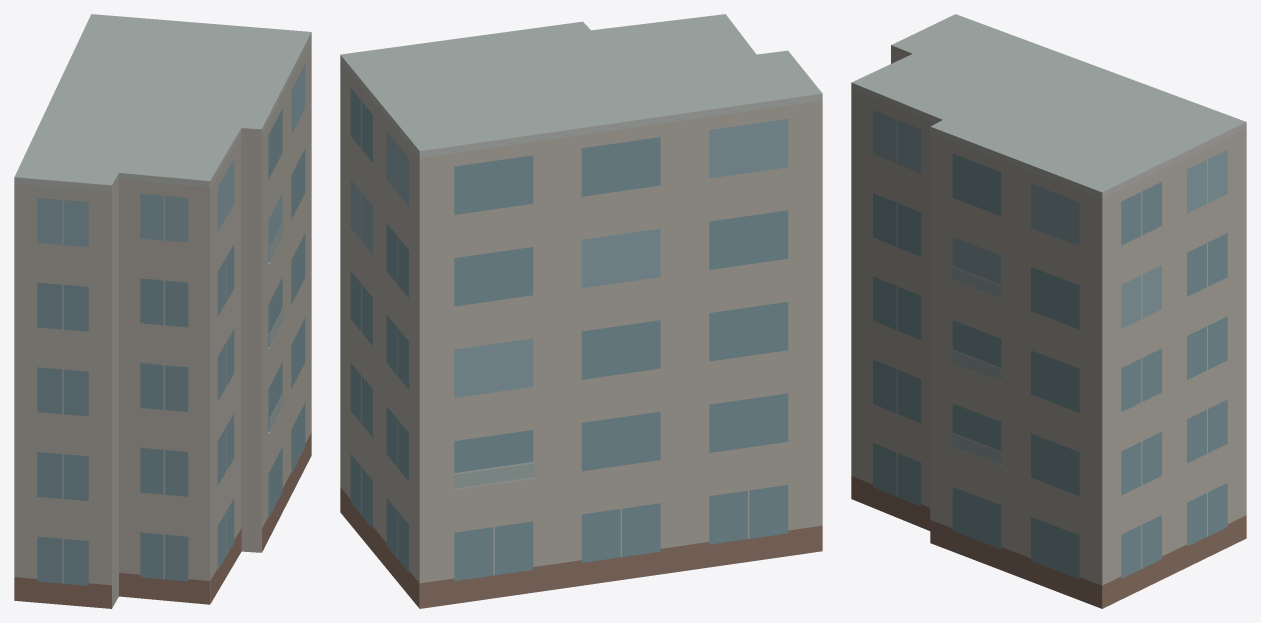
The model's file is survey-upis-32769931.glb.
3 views of the same model, side by side, from view 1: azimuth 30°, elevation 25°; view 2: azimuth 150°, elevation 25°; view 3: azimuth 270°, elevation 25° (orthographic). The views are drawn at different scales.
Visible parts, largest first — view 1: survey-upis-32769931.tmp; view 2: survey-upis-32769931.tmp; view 3: survey-upis-32769931.tmp.
Boxes of the visible parts, left/top/right/bottom form: survey-upis-32769931.tmp: left=14, top=14, right=311, bottom=608; survey-upis-32769931.tmp: left=340, top=14, right=822, bottom=608; survey-upis-32769931.tmp: left=851, top=14, right=1246, bottom=608.
Size of the model in its own units: 14.89 by 16.2 by 13.94.
